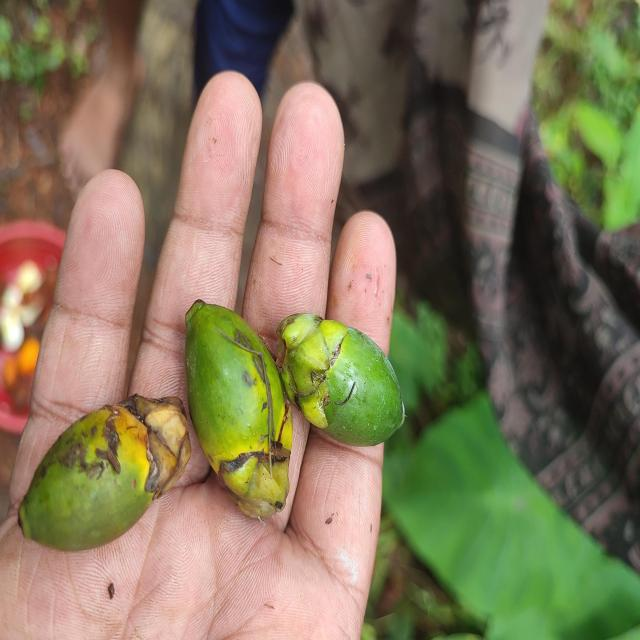damaged: (18, 396, 200, 555), (184, 302, 293, 521), (279, 316, 404, 449)
